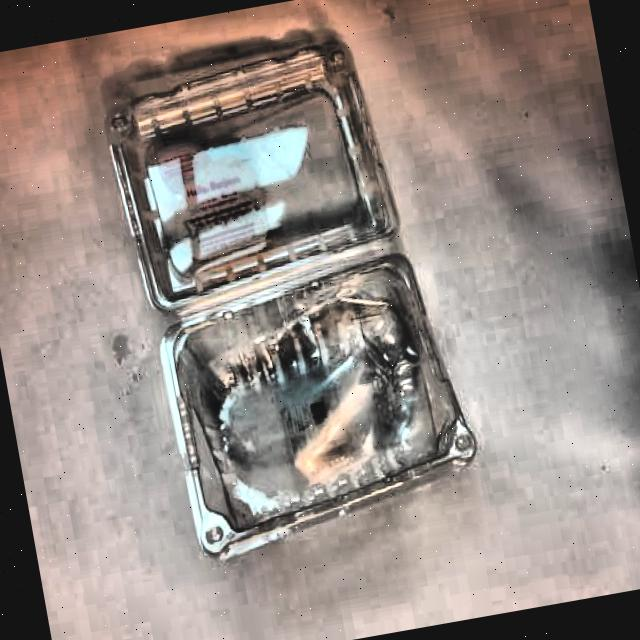plastic: (94, 34, 490, 564)
